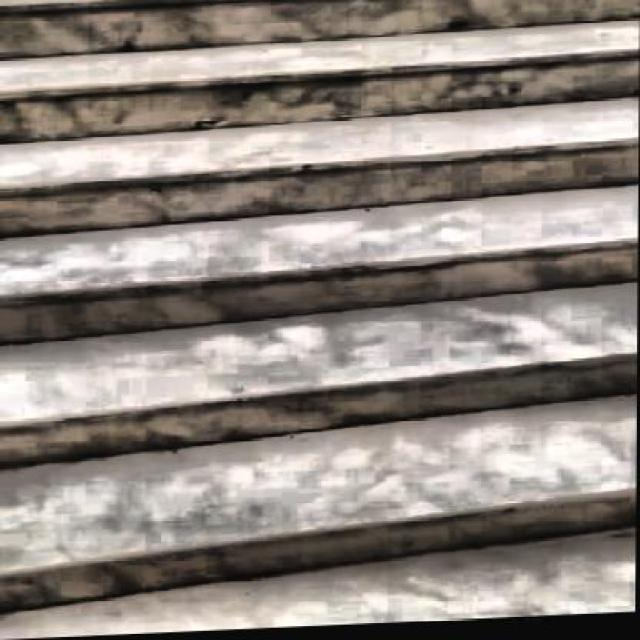stair: (9, 0, 638, 620)
